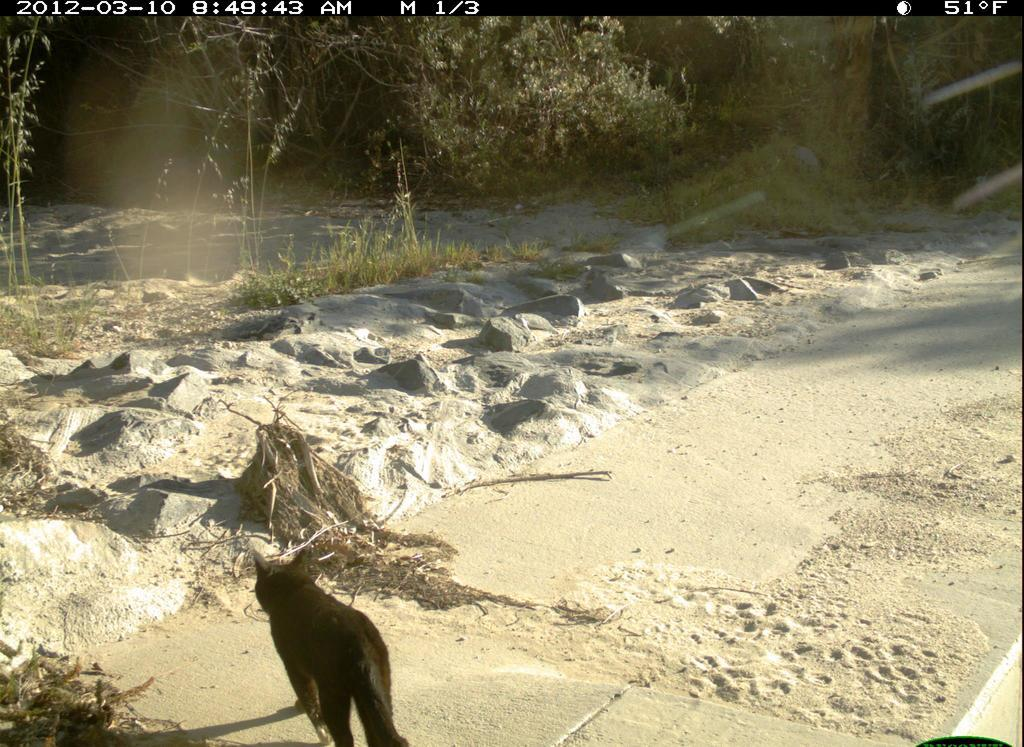cat: (235, 538, 447, 747)
